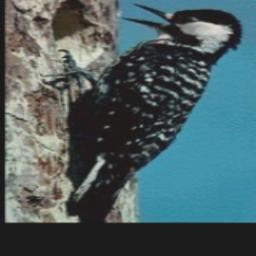Woodpecker: (40, 0, 253, 222)
